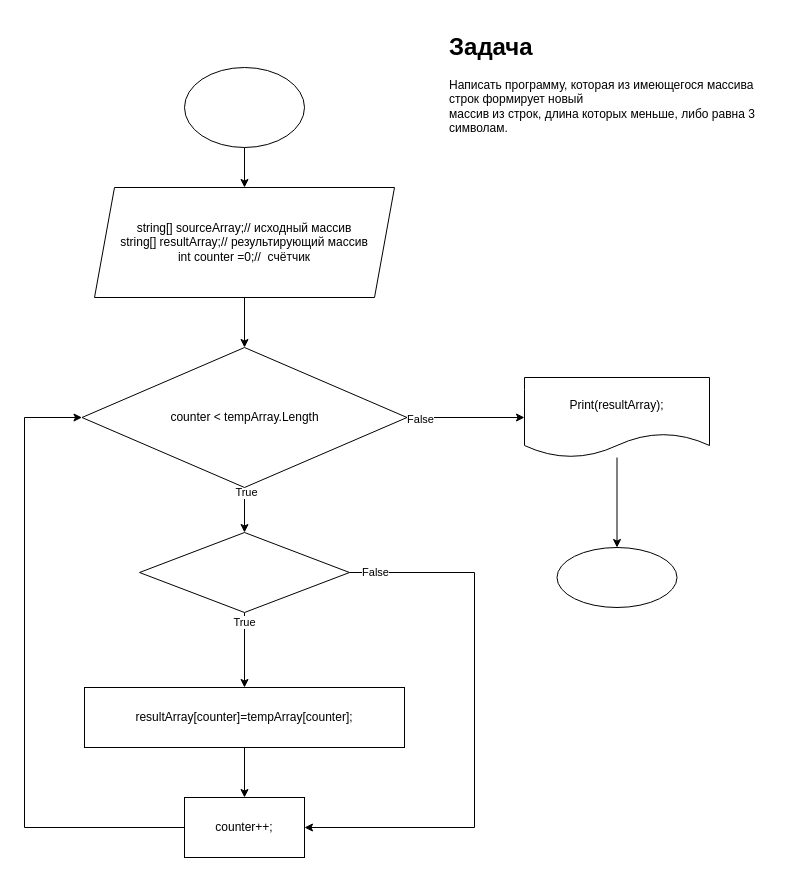
Image size: 802x875. Some labels were removed from this diagram. The shapes that lost their labels are listed below. From the top down, each one's centre as x and y in pixels, then its label:
(x=244, y=107): start
(x=244, y=572): tempArray[counter].Length<=3
(x=616, y=577): end
